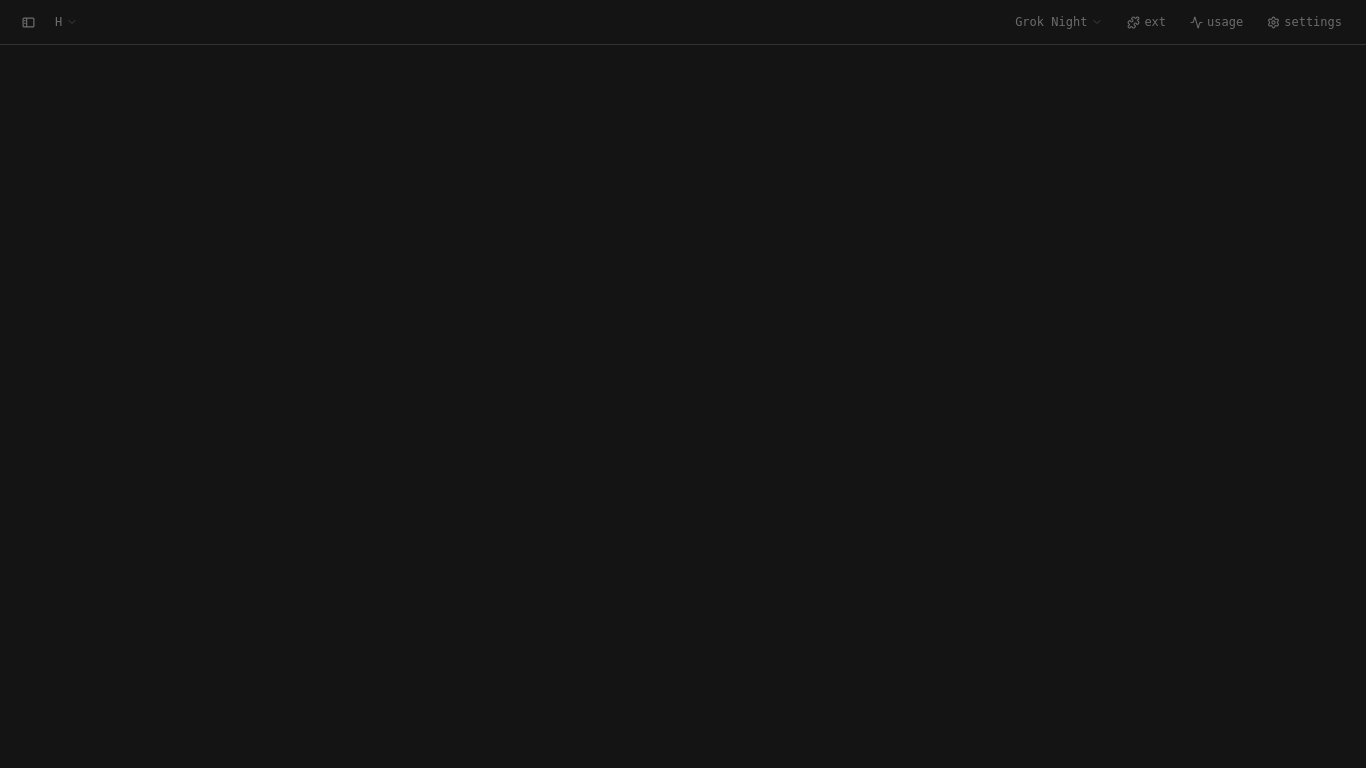
Test case: TopBar › host 下拉：右键当前 host 弹出操作菜单 → 打开修改名称弹窗
The width and height of the screenshot is (1366, 768).
Right-click the button titled "右键可管理": point(67, 22) 49,6 -> 84,38
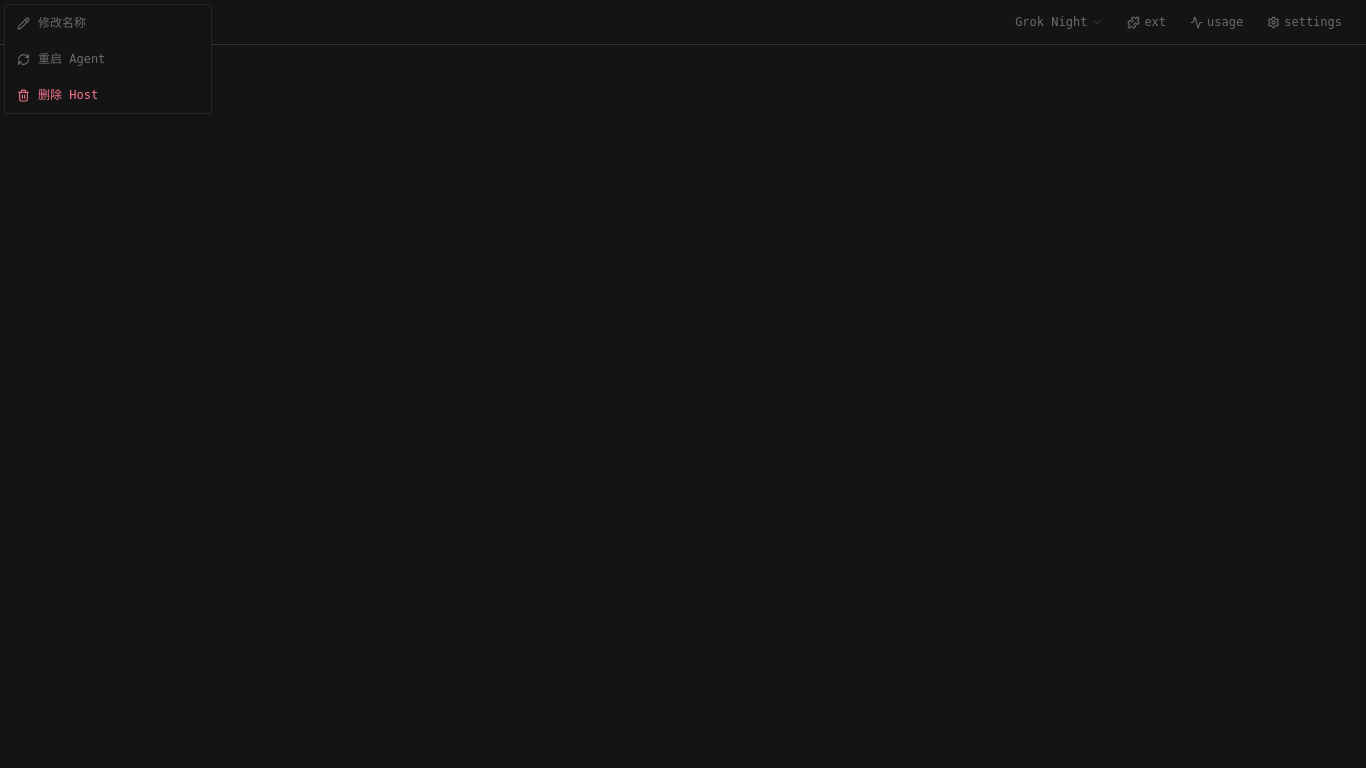
Check: the menu item "修改名称" is shown
Click the menu item "修改名称": point(108, 23) 5,5 -> 211,41
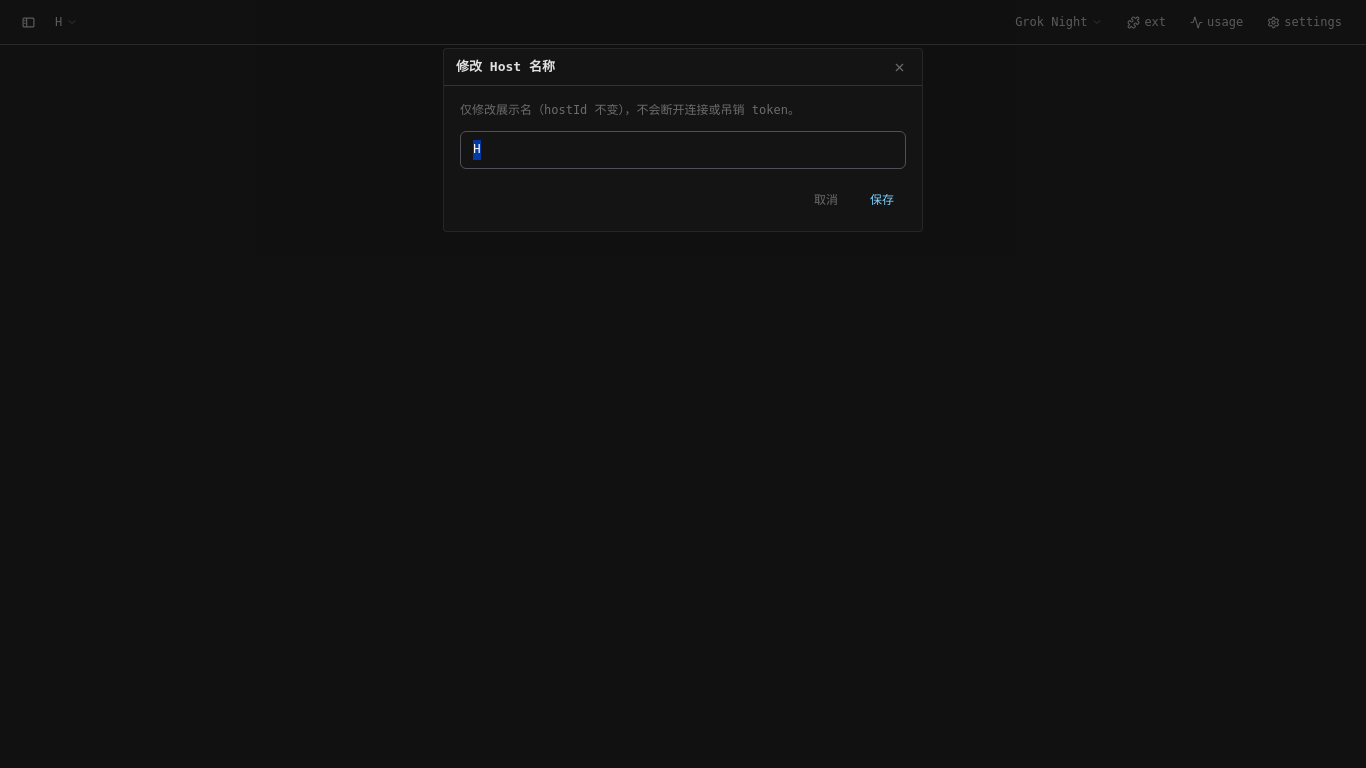
Check: the text "修改 Host 名称" is shown, box 456,57 -> 555,77
